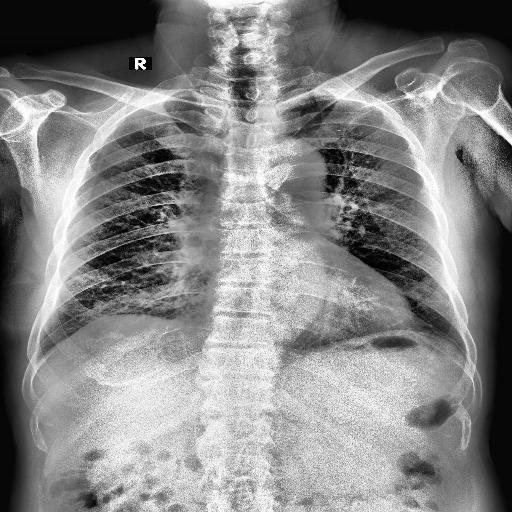0- Aortic enlargement: (253, 140, 323, 210), (254, 138, 328, 202), (244, 138, 326, 195)
3- Cardiomegaly: (203, 283, 414, 338), (199, 288, 416, 340)
